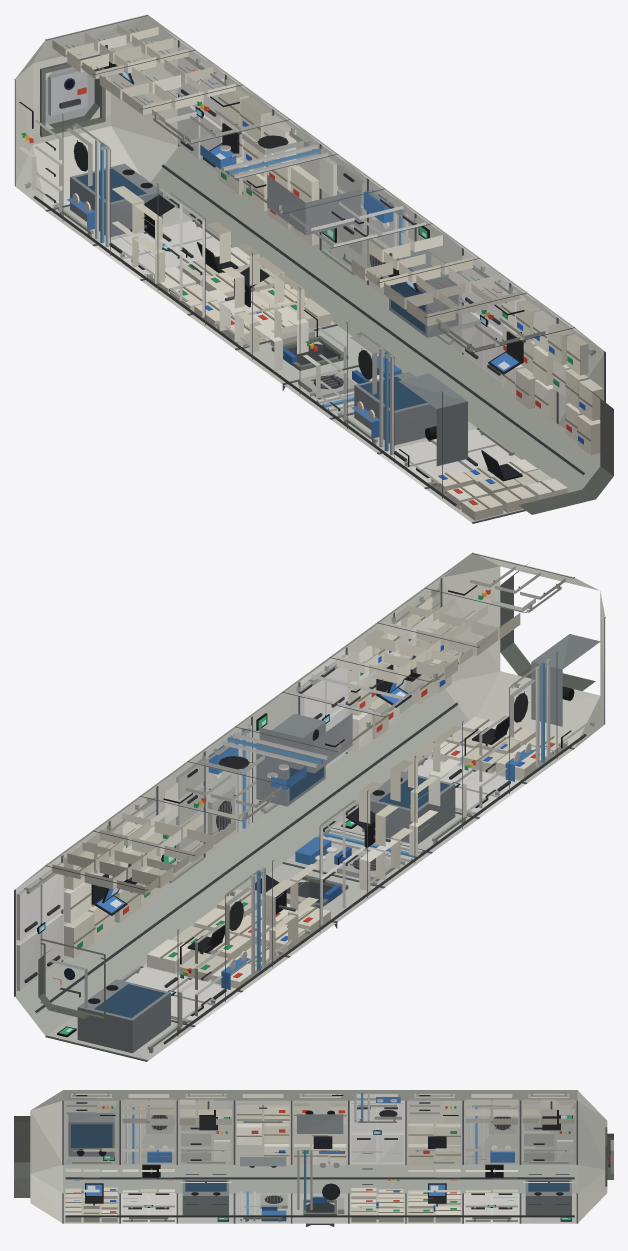
The model's file is m-kibo.glb.
3 views of the same model, one above another, from view 1: azimuth 30°, elevation 25°; view 2: azimuth 150°, elevation 25°; view 3: azimuth 270°, elevation 25° (orthographic). The views are drawn at different scales.
Parts seen in each view (by area): view 1: kibo; view 2: kibo; view 3: kibo.
Boxes of the visible parts, bbox=[...] form: kibo: bbox=[14, 14, 613, 523]; kibo: bbox=[14, 552, 605, 1061]; kibo: bbox=[14, 1090, 613, 1226].
Bounding box in the file's own units: 2.1 × 2.55 × 11.02.
